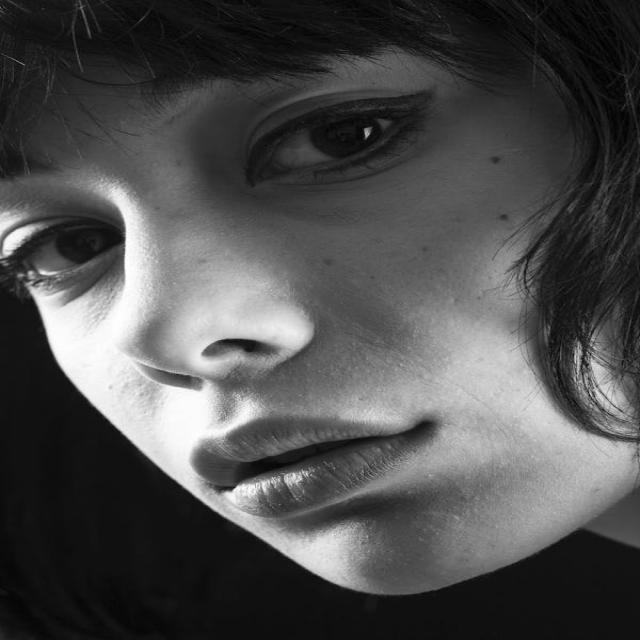no_mask: (2, 1, 640, 618)
